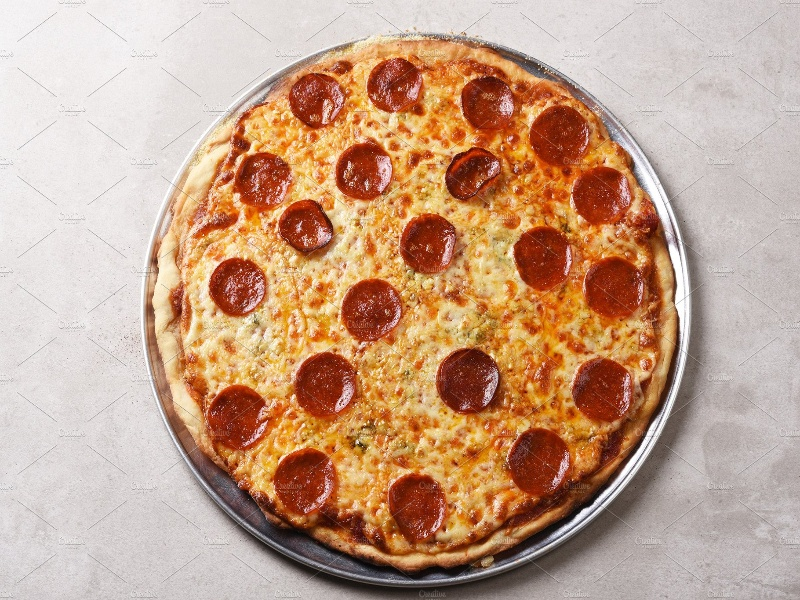pepperonis: (329, 276, 407, 346), (380, 465, 451, 540), (202, 385, 280, 451), (575, 354, 641, 431), (506, 222, 576, 293), (295, 352, 365, 420), (507, 429, 577, 494), (278, 450, 342, 518), (581, 253, 645, 317), (442, 349, 504, 413), (456, 72, 518, 136), (211, 253, 272, 317), (402, 211, 463, 275), (445, 144, 506, 206), (535, 101, 592, 167), (339, 143, 395, 205), (573, 172, 636, 225), (290, 71, 347, 127), (370, 60, 423, 120), (238, 150, 290, 209)
